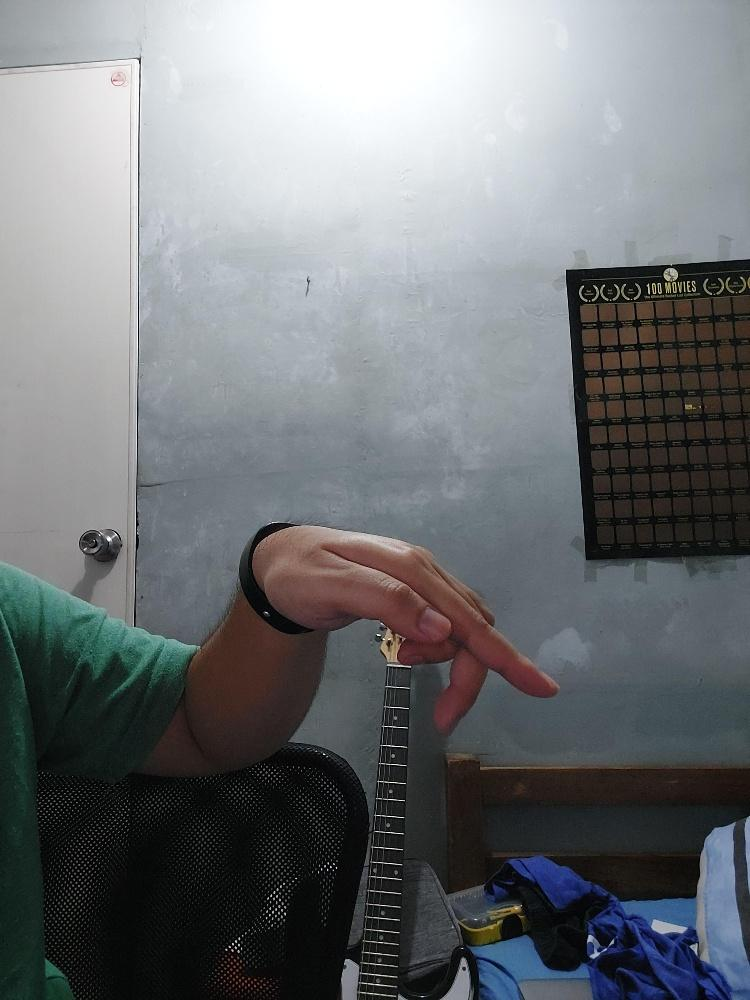p: (249, 522, 562, 735)
